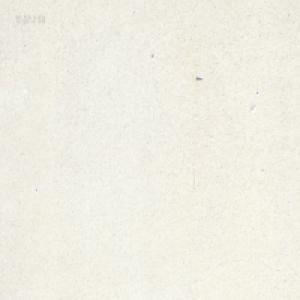Nail: (196, 76, 202, 80)
